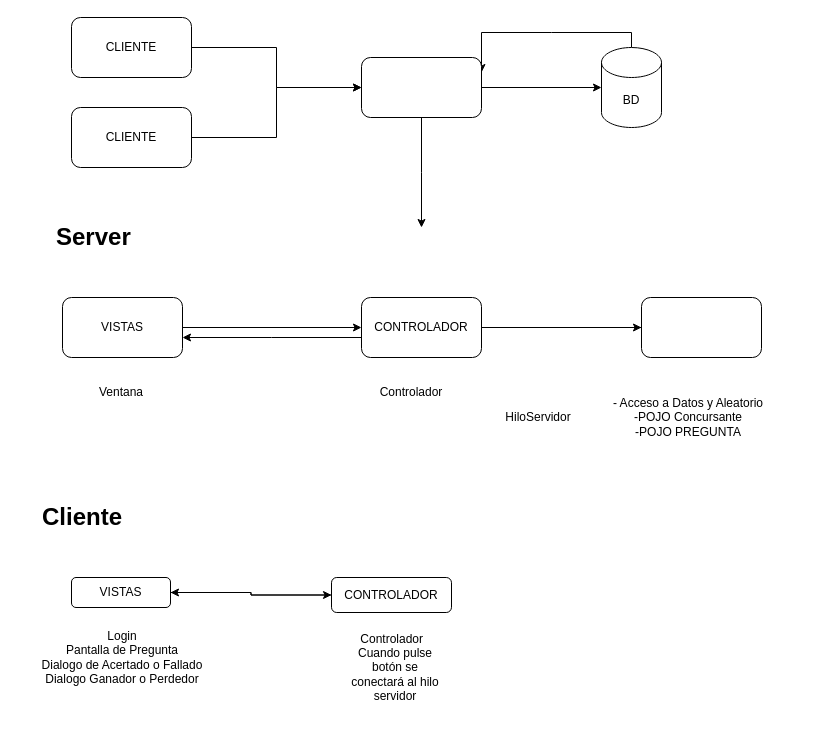
This 825x740 diagram has some shape labels left out. Each missing label, with the centre of its shape:
MODELO: (701,327)
SEVER: (421,87)
